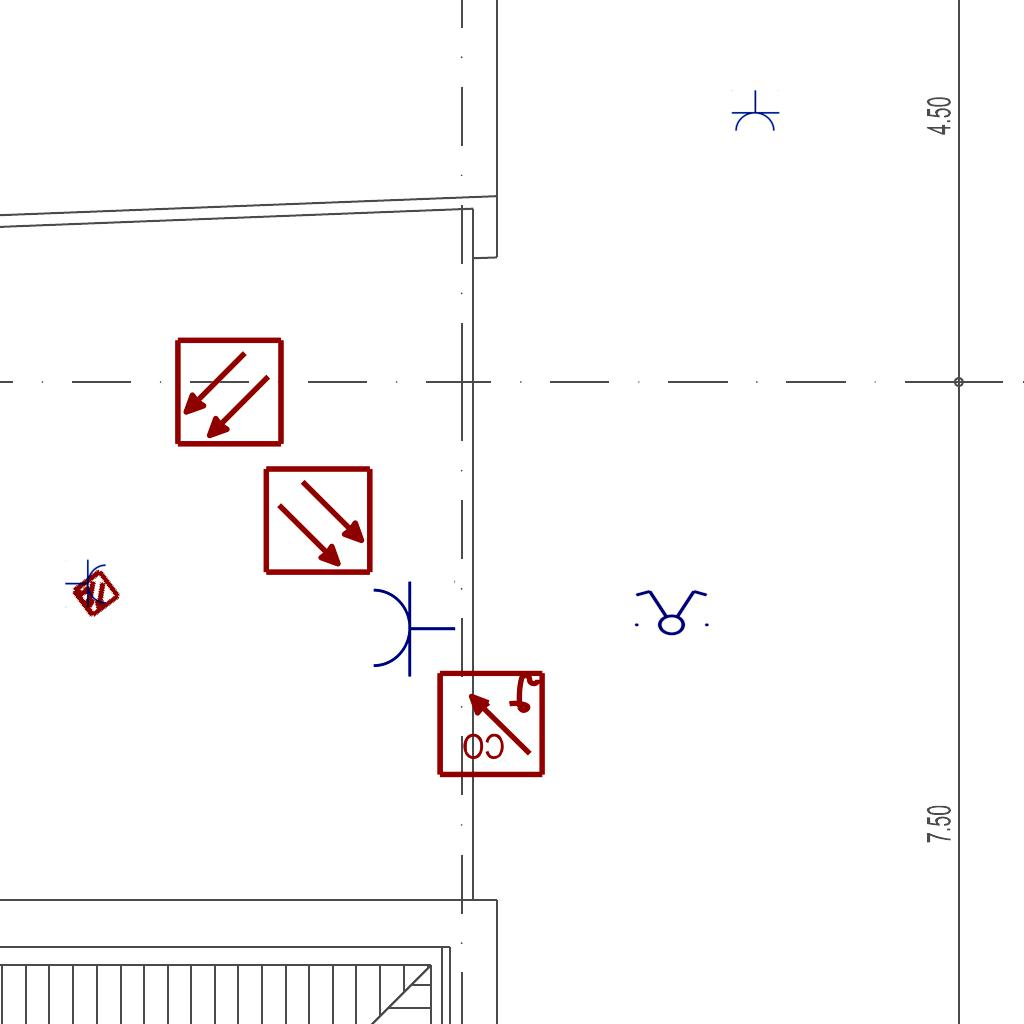OT_Multisensormelder_(Kombination_RMO_WMD): (55, 554, 135, 634)
RMO_Rauchmelder_optischer: (173, 336, 286, 449), (262, 464, 375, 577)
ROA_Rauchmelder_optisch_mit_Signalgeber_(Sockelsirene): (434, 666, 547, 779)
Schukosteckdose_einfach: (369, 578, 456, 678), (730, 90, 780, 133), (65, 559, 108, 609)
Serienschalter: (629, 588, 713, 636)
